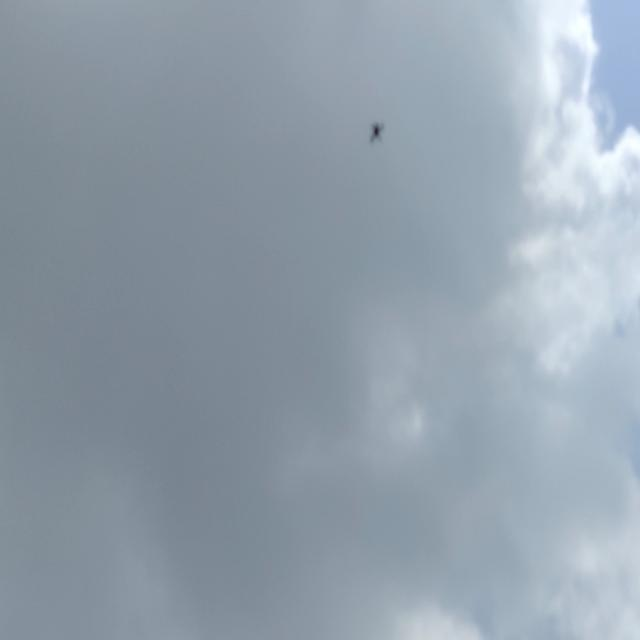drone: (366, 109, 388, 153)
